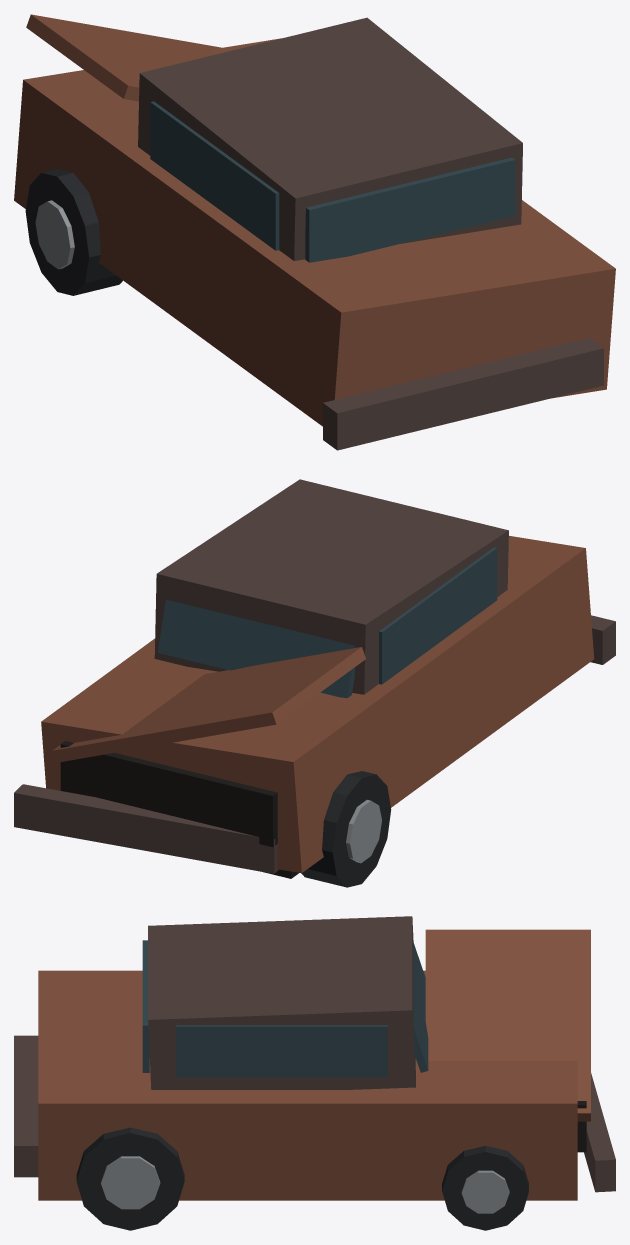
The model's file is car_wreck.glb.
The picture shows the model from 3 angles, top to bottom: view 1: azimuth 30°, elevation 25°; view 2: azimuth 150°, elevation 25°; view 3: azimuth 270°, elevation 25°; orthographic projection. The views are drawn at different scales.
Visible parts, largest first — view 1: car_wreck; view 2: car_wreck; view 3: car_wreck.
Boxes of the visible parts, box(x1,y1,x2,y2) form: car_wreck: box(14, 14, 615, 450); car_wreck: box(14, 479, 615, 887); car_wreck: box(14, 916, 615, 1230).
Bounding box in the file's own units: 1.77 × 1.3 × 3.46.
